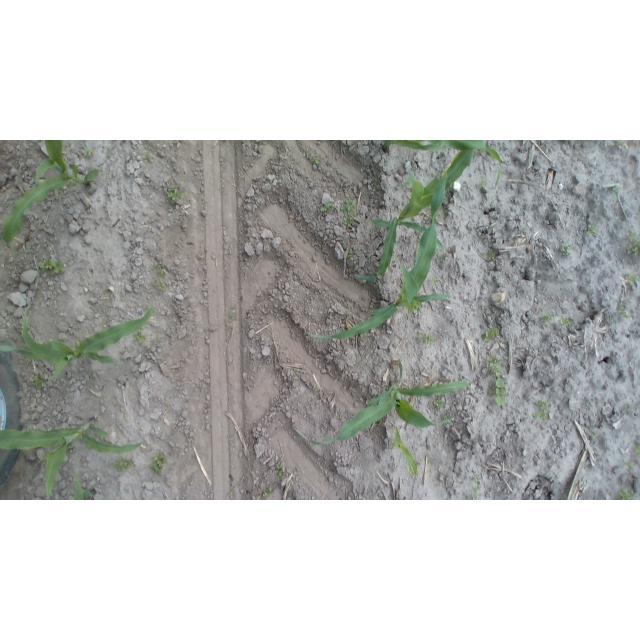Maize: (308, 206, 455, 344), (355, 145, 496, 282), (296, 361, 471, 450), (1, 416, 146, 500), (0, 304, 154, 381), (1, 140, 103, 244), (380, 140, 505, 186), (389, 424, 420, 479), (71, 473, 98, 499)
Weeds: (488, 376, 508, 407), (340, 198, 358, 231), (165, 182, 186, 206), (38, 258, 66, 276), (150, 452, 167, 475), (468, 476, 484, 499), (534, 400, 551, 421), (488, 357, 505, 377), (481, 327, 501, 344), (114, 456, 135, 472), (626, 233, 638, 258), (151, 262, 169, 276), (616, 488, 637, 500), (419, 333, 437, 346), (321, 201, 336, 216), (433, 395, 447, 411), (623, 273, 638, 287), (561, 242, 574, 258), (276, 462, 287, 480), (136, 330, 149, 345), (142, 151, 155, 165), (618, 305, 630, 320), (153, 280, 168, 292), (34, 373, 45, 389), (440, 414, 454, 426), (541, 311, 554, 323), (82, 146, 95, 158), (560, 315, 572, 327), (347, 248, 358, 261), (587, 224, 598, 237), (226, 312, 239, 322), (262, 488, 273, 499), (612, 184, 622, 196), (632, 443, 640, 457), (478, 179, 489, 189), (431, 277, 441, 288), (143, 307, 154, 317), (588, 424, 596, 437), (623, 461, 633, 471), (625, 404, 634, 415), (488, 252, 497, 261), (313, 156, 322, 165), (617, 141, 628, 148), (229, 492, 236, 500), (292, 368, 300, 375)
